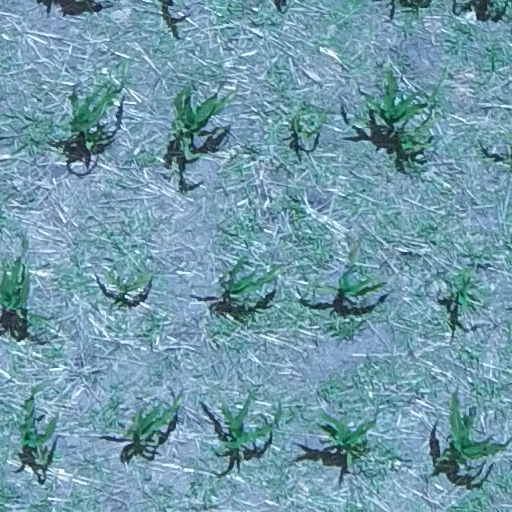planta: (437, 392, 508, 475), (170, 87, 226, 163), (306, 245, 384, 299), (63, 81, 124, 149), (363, 68, 428, 129), (220, 398, 281, 463), (108, 395, 180, 441), (14, 395, 56, 466), (318, 416, 375, 468), (218, 259, 280, 303), (443, 272, 479, 310), (102, 272, 147, 298), (290, 106, 321, 141)
